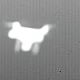plane: (4, 19, 57, 57)
